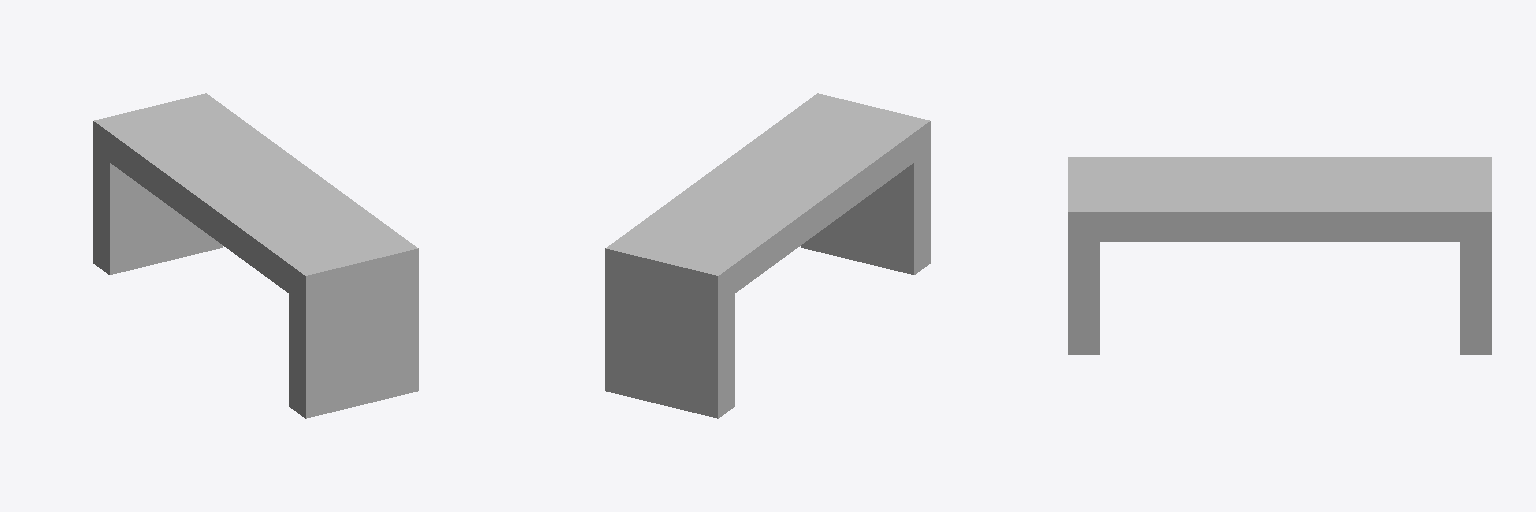
File: BancaBiblioteca.obj
3 renders of one model, left to right at view 1: azimuth 30°, elevation 25°; view 2: azimuth 150°, elevation 25°; view 3: azimuth 270°, elevation 25°, orthographic.
Visible parts, largest first — view 1: Cube.004; view 2: Cube.004; view 3: Cube.004.
Part boxes in pixels (left/top/right/bottom): Cube.004: left=93, top=93, right=418, bottom=418; Cube.004: left=605, top=93, right=930, bottom=418; Cube.004: left=1068, top=157, right=1491, bottom=354.
Bounding box in the file's own units: 4 × 4.83 × 13.02.